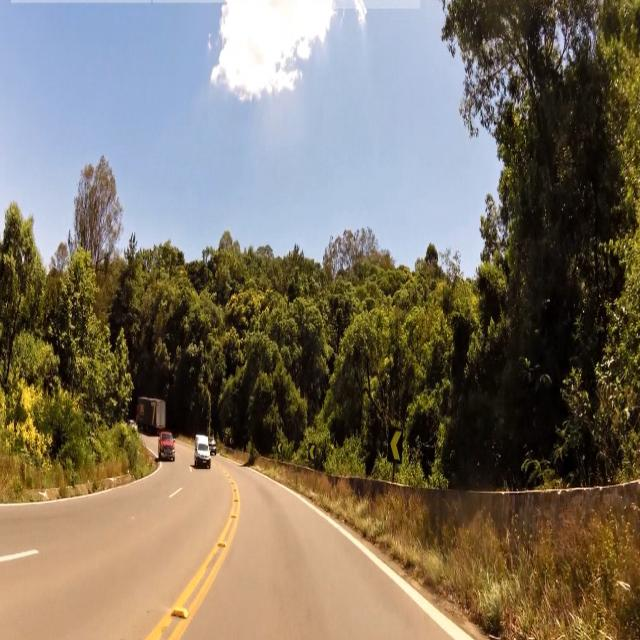Del: (389, 428, 403, 463), (307, 442, 317, 463)
